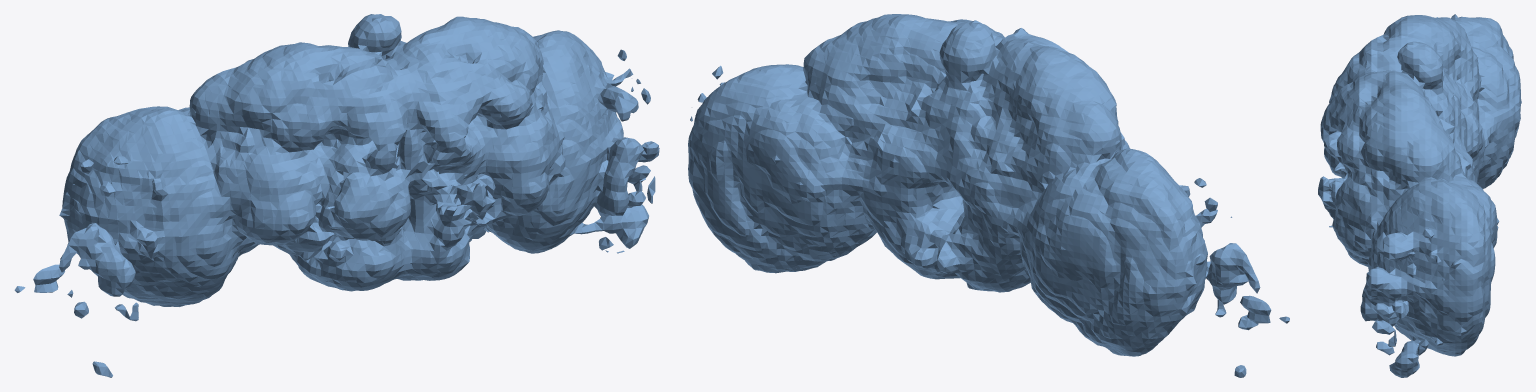
Rendered from fruit-fly-brain-flywire.glb.
3 renders of one model, left to right at view 1: azimuth 30°, elevation 25°; view 2: azimuth 150°, elevation 25°; view 3: azimuth 270°, elevation 25°, orthographic. The views are drawn at different scales.
Parts seen in each view (by area): view 1: Derived density envelope (not a segmented membrane); view 2: Derived density envelope (not a segmented membrane); view 3: Derived density envelope (not a segmented membrane).
Part boxes in pixels (box(x1,y1,x2,y2)): Derived density envelope (not a segmented membrane): box(14, 14, 659, 377); Derived density envelope (not a segmented membrane): box(688, 14, 1289, 377); Derived density envelope (not a segmented membrane): box(1318, 14, 1521, 377).
Bounding box in the file's own units: 791 × 359 × 272.
